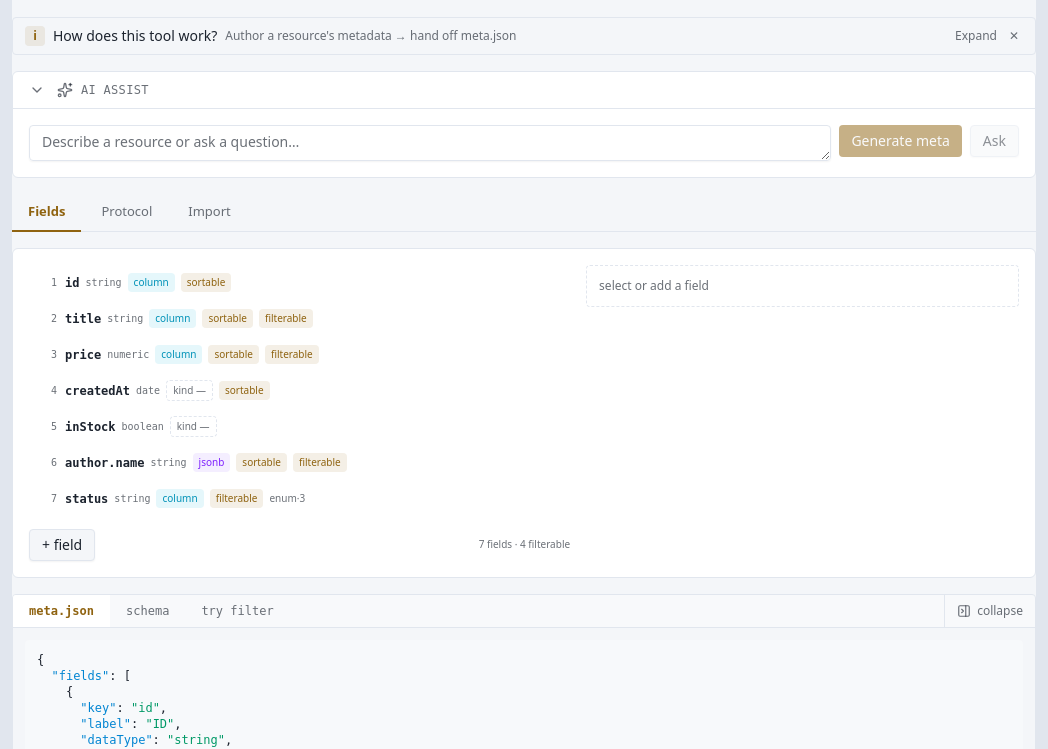
Test: MetadataBuilderTool › tabs swap the editor panel while the derived preview stays visible
The image size is (1048, 749).
Expected: the button "+ field" is shown, [29,528,95,560]
Step 1. Click the button "Protocol" → [127, 213], box [86,194,168,232]
(page scrolled)
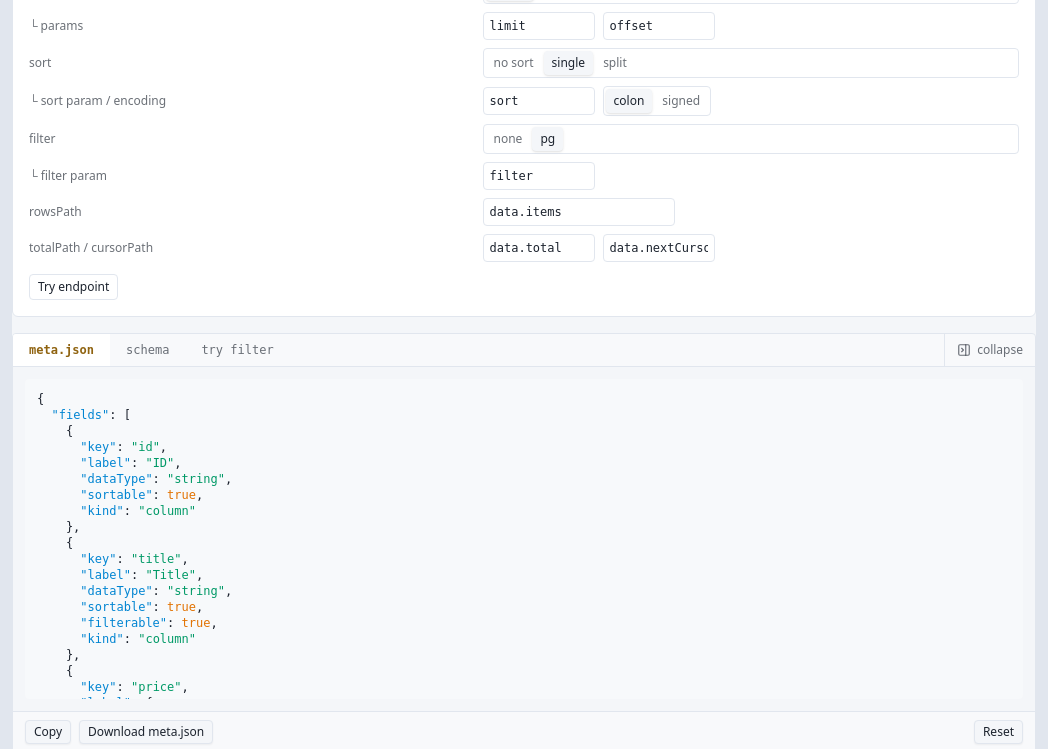
Expected: the element with test id "meta-json" is shown, [25,378,1023,698]
Expected: the button "+ field" is gone
